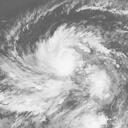cyclone: (24, 23, 93, 81)
